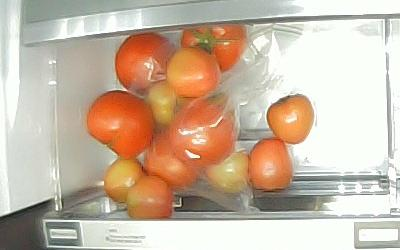tomato: (87, 91, 155, 160), (266, 93, 314, 144), (249, 139, 294, 191), (127, 176, 173, 219), (105, 158, 144, 203)
tomato_vinyl: (168, 96, 238, 168), (116, 31, 176, 95), (143, 129, 199, 189), (182, 22, 246, 72), (167, 46, 220, 97), (206, 151, 249, 195), (147, 83, 185, 126)
